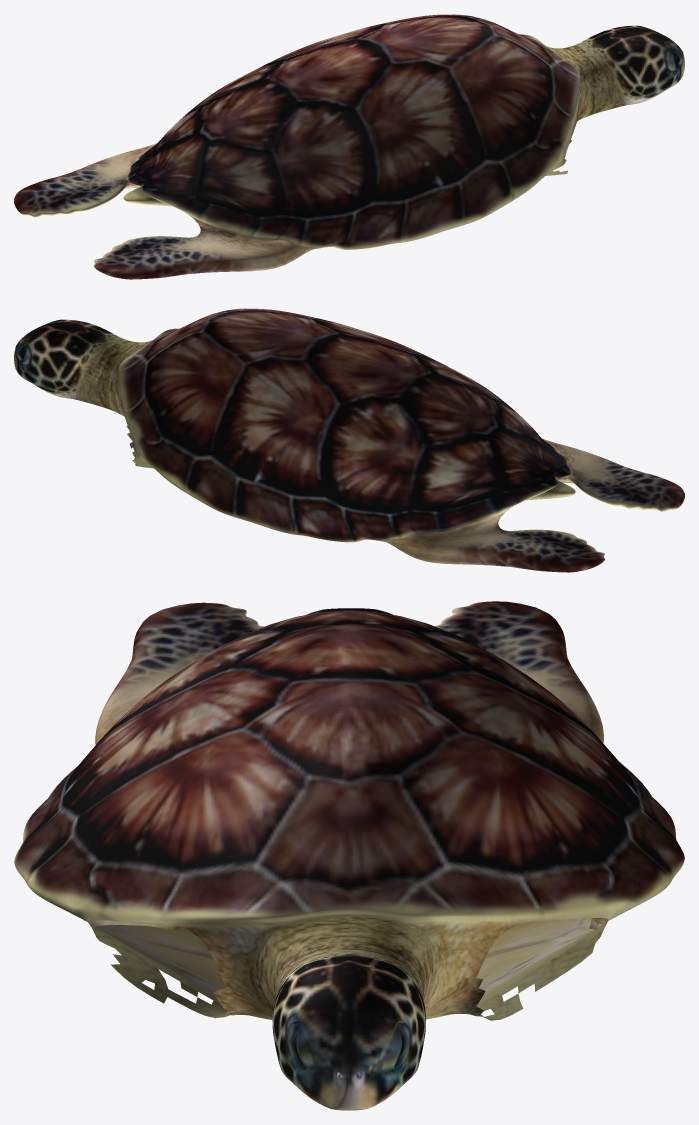
File: cuerpoTortuga.obj
3 renders of one model, top to bottom at view 1: azimuth 30°, elevation 25°; view 2: azimuth 150°, elevation 25°; view 3: azimuth 270°, elevation 25°, orthographic. The views are drawn at different scales.
Parts seen in each view (by area): view 1: cuerpoTortuga; view 2: cuerpoTortuga; view 3: cuerpoTortuga.
Part boxes in pixels (left/top/right/bottom): cuerpoTortuga: left=14, top=14, right=684, bottom=279; cuerpoTortuga: left=14, top=308, right=684, bottom=572; cuerpoTortuga: left=14, top=601, right=684, bottom=1110.
Size of the model in its own units: 10.68 by 2.54 by 5.62.
Materials: 1 (1 with a texture image).
